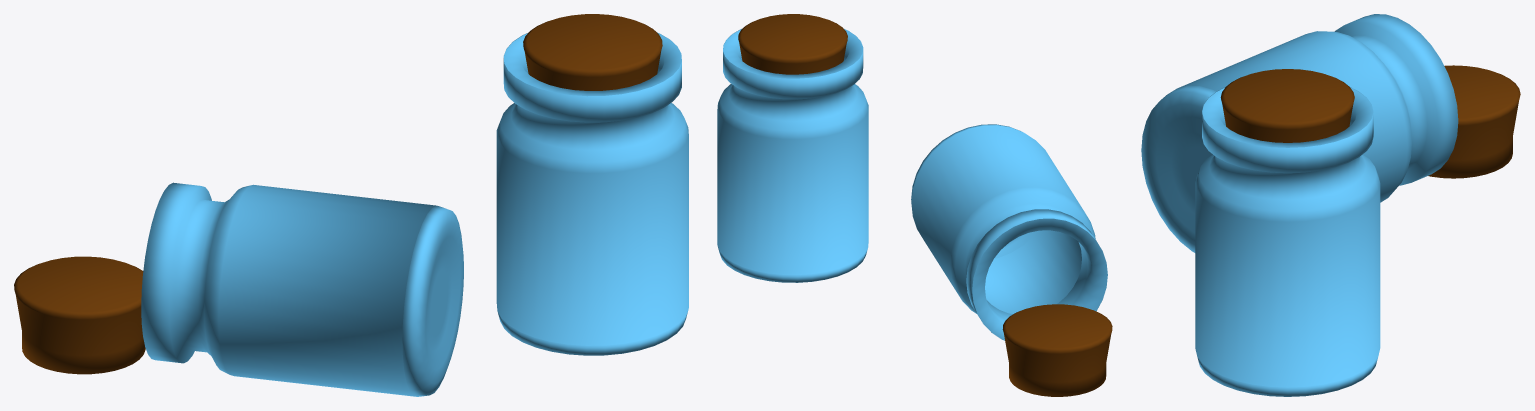
File: Bottle.fbx
The picture shows the model from 3 angles, left to right: view 1: azimuth 30°, elevation 25°; view 2: azimuth 150°, elevation 25°; view 3: azimuth 270°, elevation 25°; orthographic projection. The views are drawn at different scales.
Visible parts, largest first — view 1: Icosphere.001, Icosphere; view 2: Icosphere, Icosphere.001; view 3: Icosphere, Icosphere.001.
Part boxes in pixels (x1,y1,x2,y2): Icosphere.001: (14, 182, 463, 396); Icosphere: (496, 14, 688, 355); Icosphere: (717, 14, 868, 282); Icosphere.001: (911, 124, 1112, 396); Icosphere: (1195, 69, 1380, 396); Icosphere.001: (1141, 14, 1520, 252).
Size of the model in its own units: 679 by 319 by 410.
